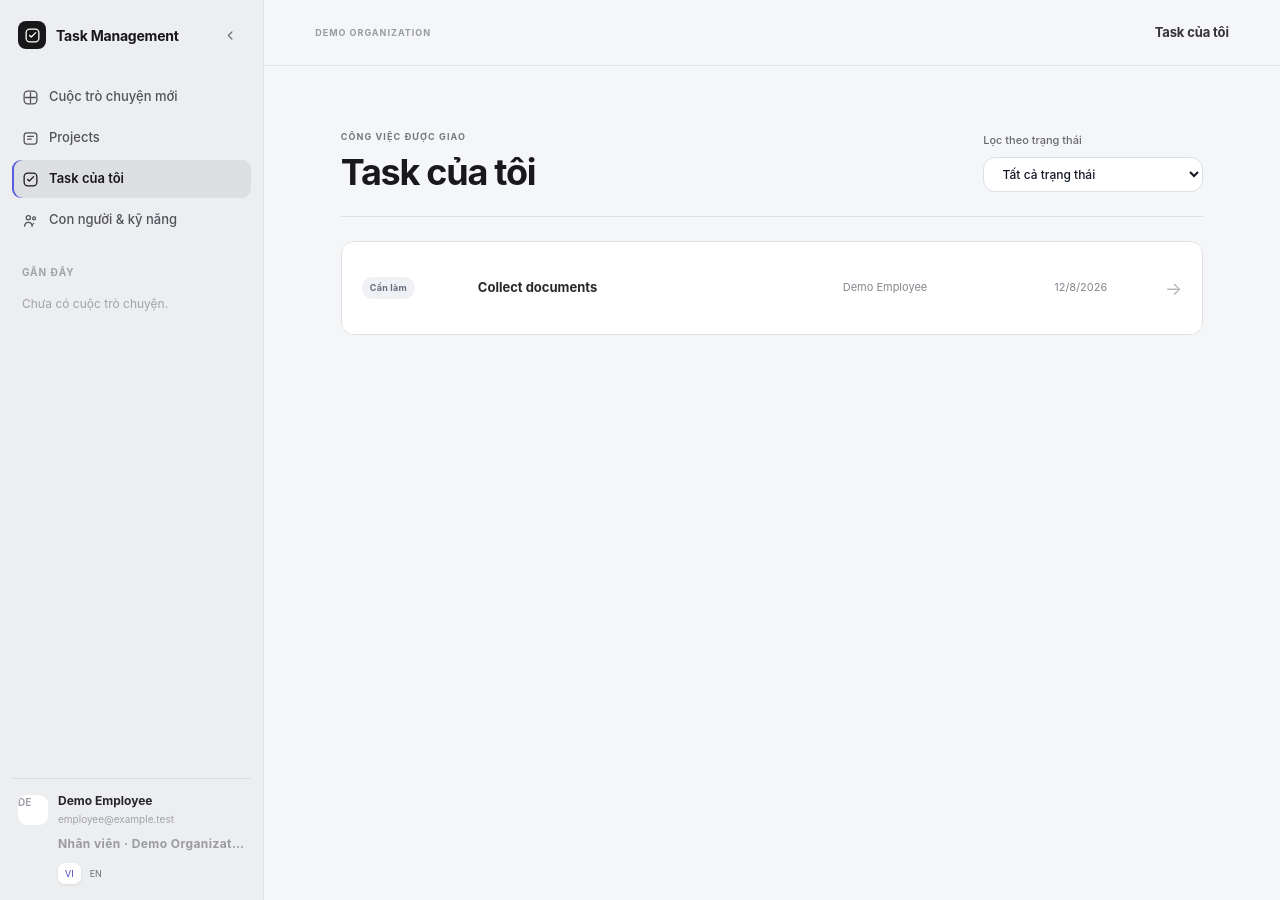
WorkWorkspace › lets an Employee progress an assigned Task without edit controls
Expected: the button "Cuộc trò chuyện mới" is enabled, [12,78,251,116]
Step 1. Click the heading "Collect documents" → (538, 287), box [478,279,597,295]
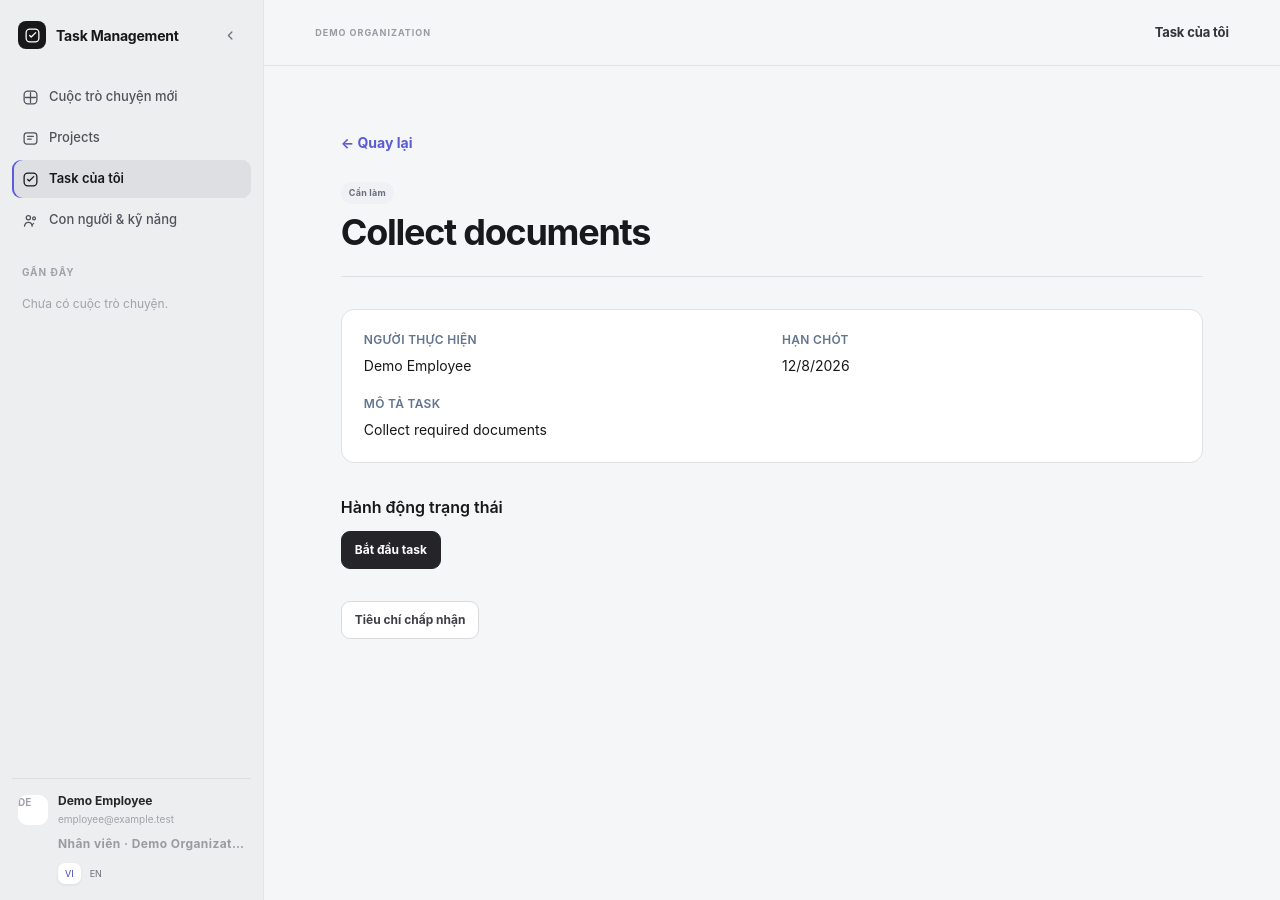
Expected: the text "Demo Employee" below "Người thực hiện" is shown, [364,357,471,374]
Expected: the button "giao Task" is gone
Step 2. Click the button "Bắt đầu task" → (391, 550), box [341,531,441,569]
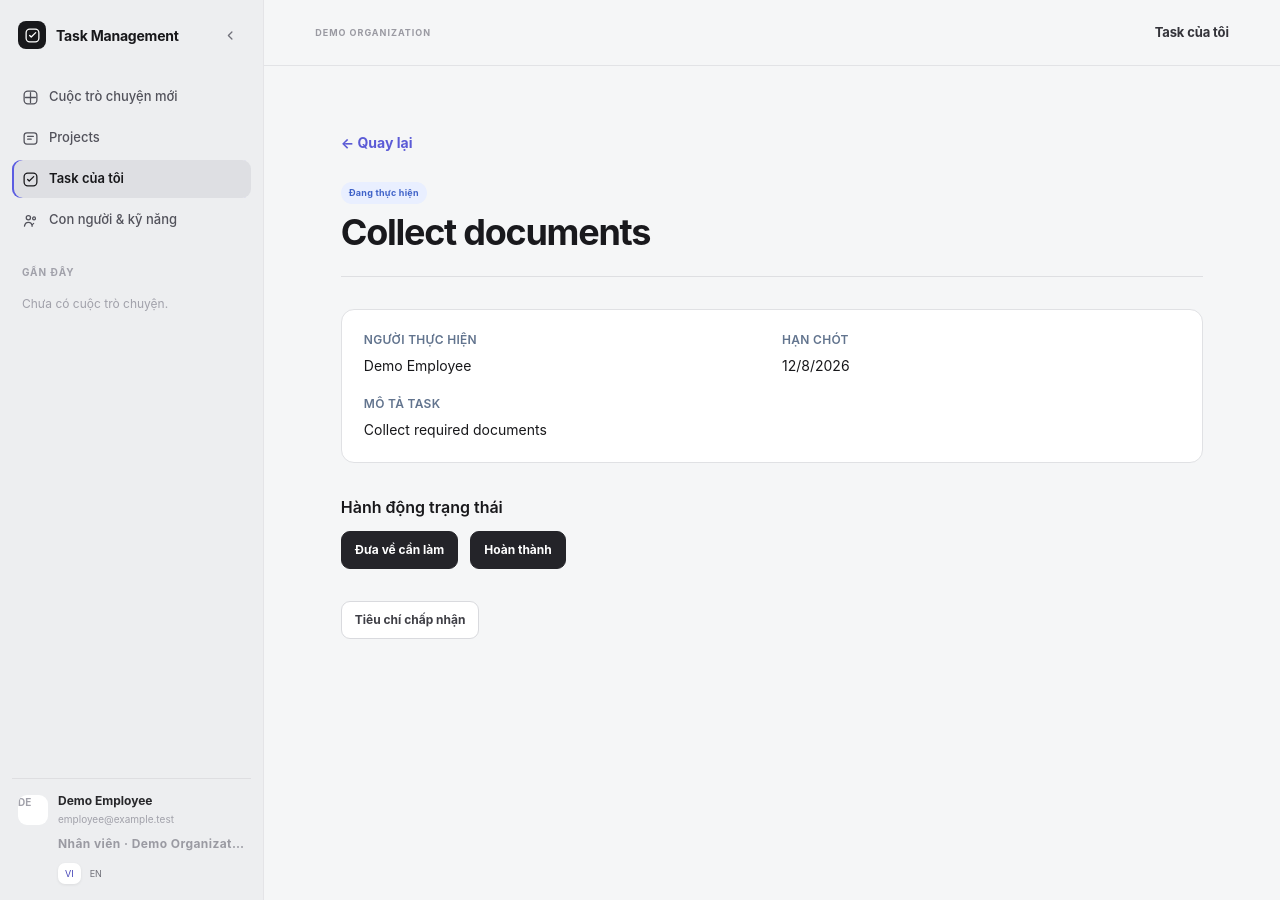
Expected: the text "Đang thực hiện" is shown, [341,182,427,204]
Step 3. Click the button "Hoàn thành" → (518, 550), box [470,531,566,569]
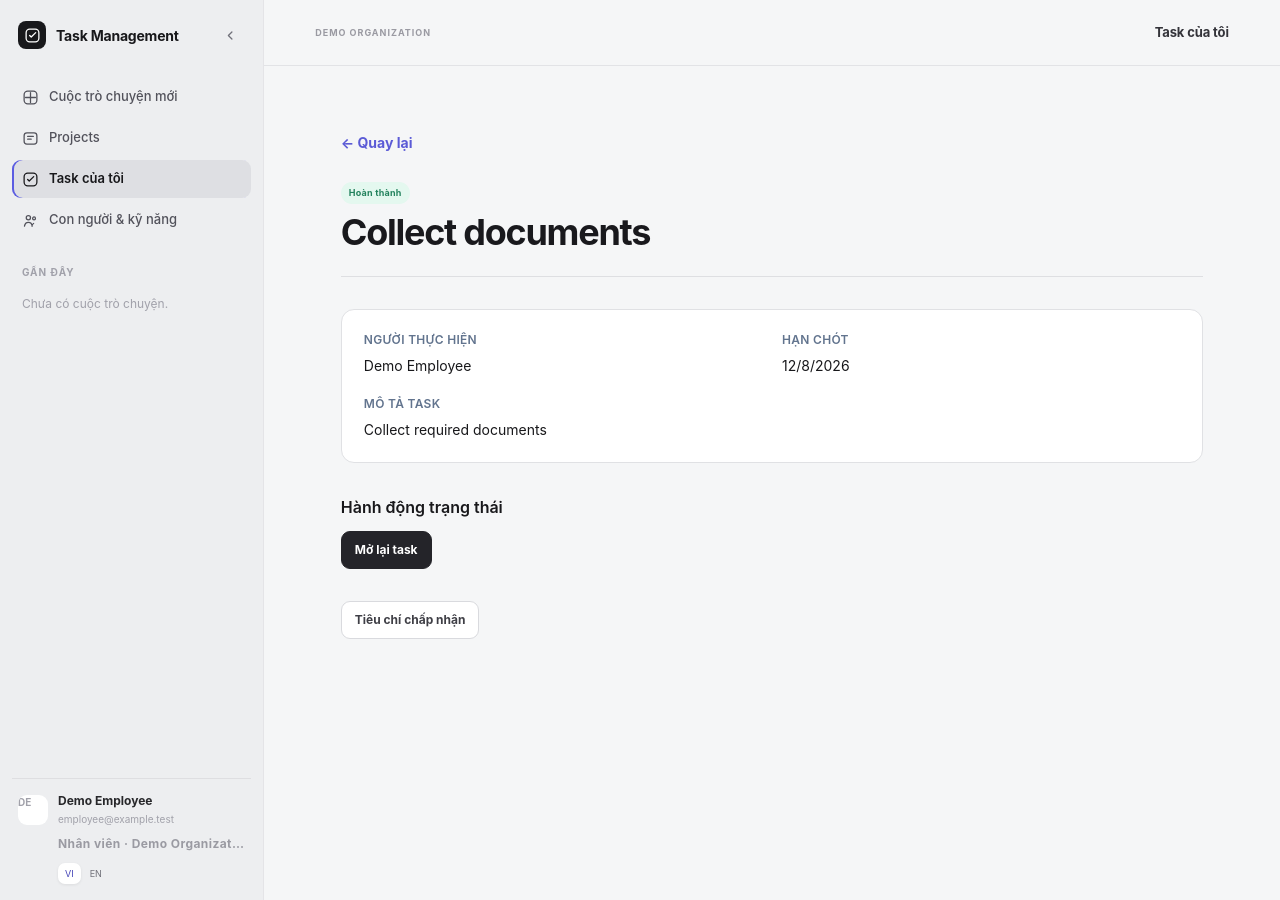
Expected: the text "Hoàn thành" is shown, [341,182,410,204]
